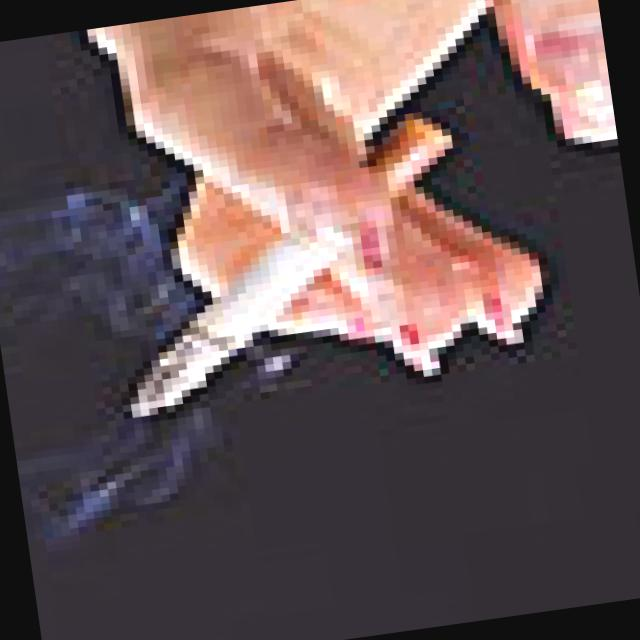cigarette: (102, 250, 340, 429)
